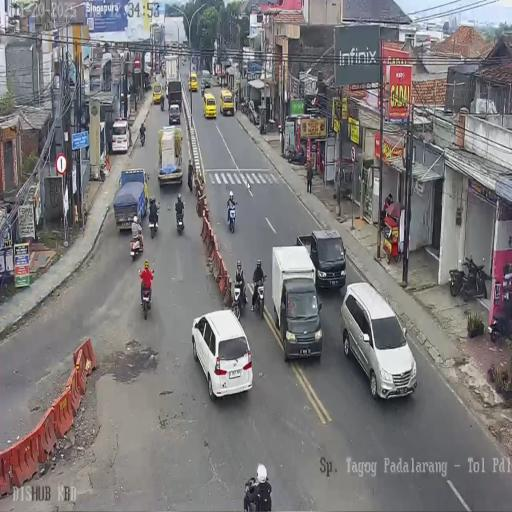car: (338, 282, 414, 398), (192, 310, 254, 400), (304, 229, 346, 291), (111, 118, 130, 154), (220, 88, 234, 116), (203, 93, 217, 119), (168, 103, 181, 126), (188, 72, 198, 92), (160, 63, 166, 79), (165, 82, 169, 98)
motorcycle: (460, 254, 487, 300), (488, 306, 508, 342), (139, 271, 153, 319), (231, 278, 247, 320), (252, 276, 266, 318), (130, 224, 144, 260), (149, 206, 160, 239), (288, 146, 306, 166), (226, 202, 236, 233), (176, 206, 184, 234), (241, 98, 249, 116), (127, 124, 132, 146), (140, 128, 146, 146), (160, 96, 165, 112), (201, 83, 205, 97)
truck: (273, 245, 318, 357), (114, 168, 149, 231), (157, 125, 183, 186), (164, 54, 177, 86)
